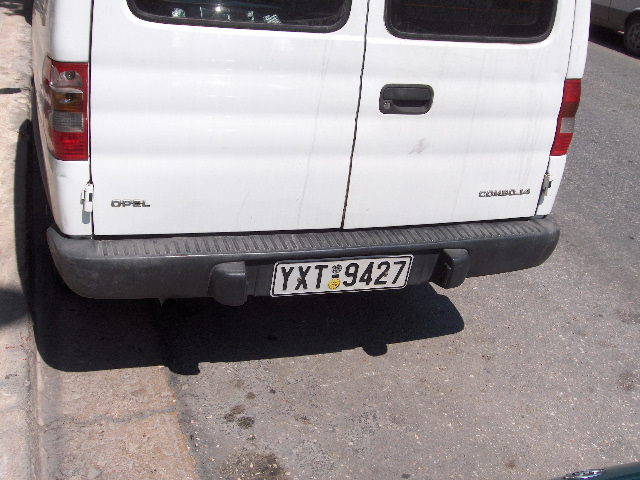licenseplate: (269, 253, 414, 297)
